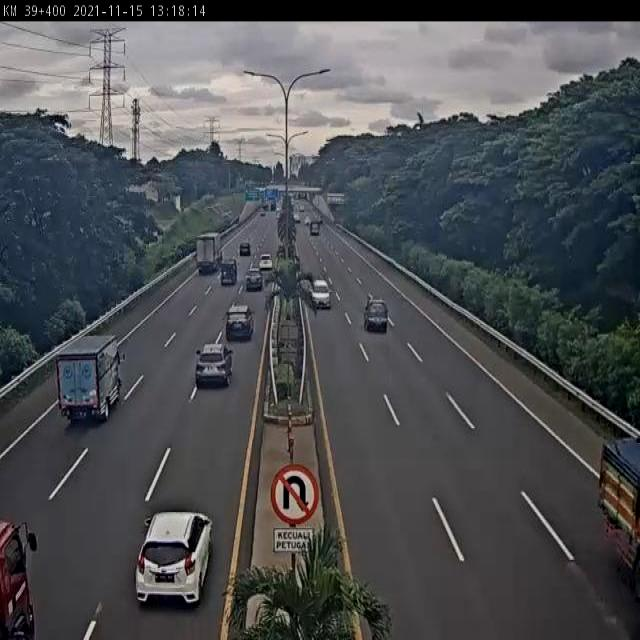Car: (136, 510, 217, 609), (193, 340, 234, 390), (226, 305, 255, 342), (308, 278, 332, 310), (245, 269, 262, 289), (259, 252, 273, 271), (239, 242, 251, 256)
Truck: (56, 333, 128, 429), (600, 421, 640, 588), (0, 512, 38, 640), (194, 231, 223, 277), (309, 220, 322, 237), (193, 343, 206, 346)
